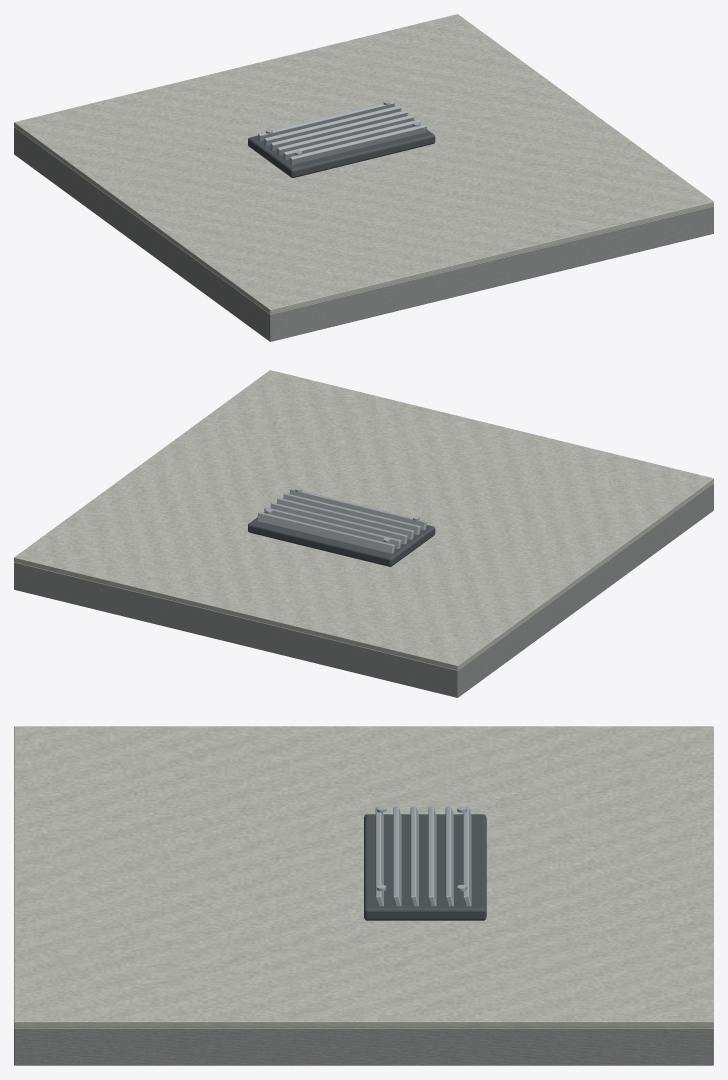
Rendered from liminal-spaces-kit-ceiling-return-5aea5891__25199.glb.
3 views of the same model, one above another, from view 1: azimuth 30°, elevation 25°; view 2: azimuth 150°, elevation 25°; view 3: azimuth 270°, elevation 25° (orthographic). The views are drawn at different scales.
Parts seen in each view (by area): view 1: ceiling-return; view 2: ceiling-return; view 3: ceiling-return.
Part boxes in pixels (left/top/right/bottom): ceiling-return: left=14, top=14, right=713, bottom=341; ceiling-return: left=14, top=370, right=713, bottom=697; ceiling-return: left=14, top=726, right=713, bottom=1065.
Bounding box in the file's own units: 2 × 0.2229 × 2.
4 materials, 2 textured.
